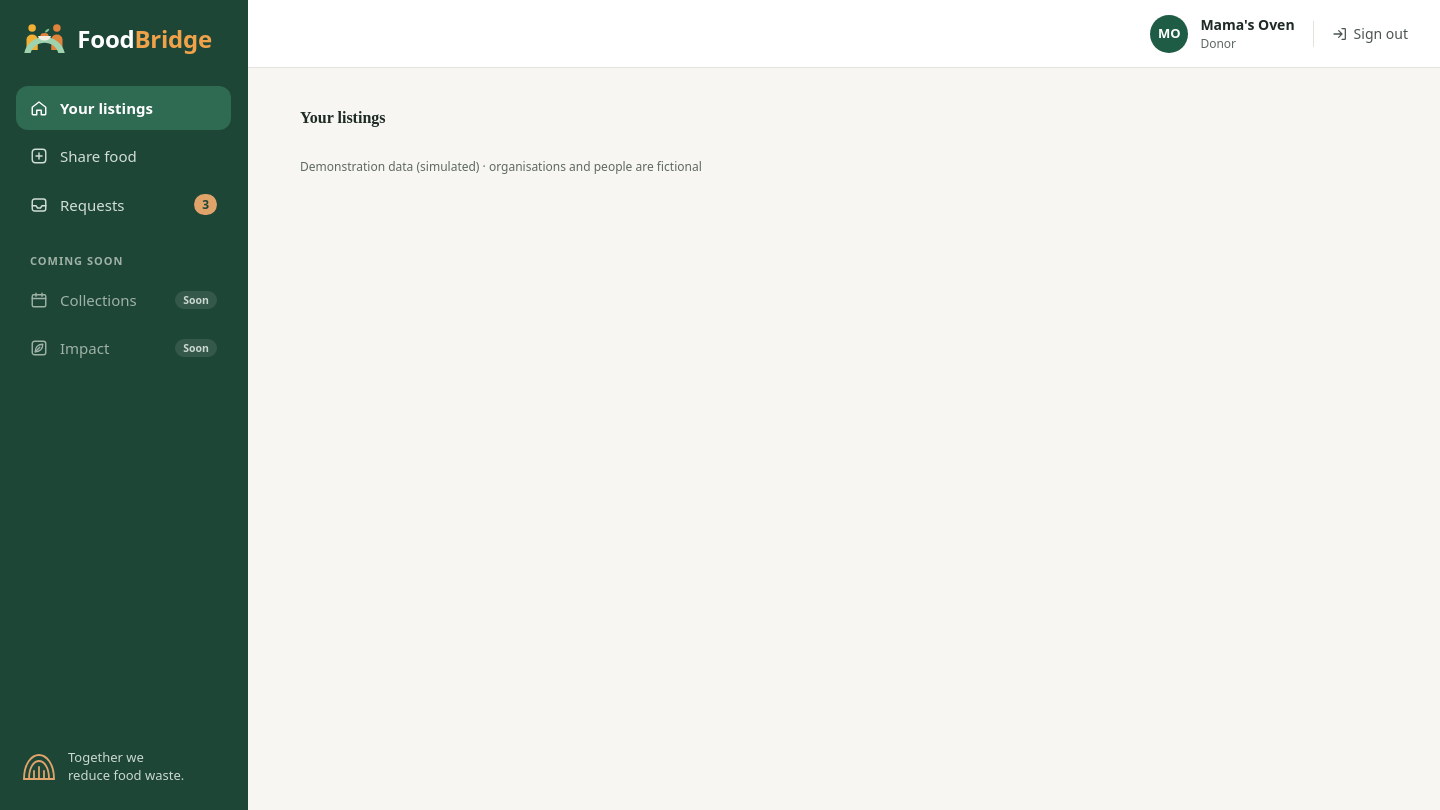
Test case: AppLayout sidebar › stays dark green when navigating between sidebar links
What coordinates should you click on to do the following:
click the link "Share food"
I would click on:
 (83, 156)
Its box is [30,146,137,166].
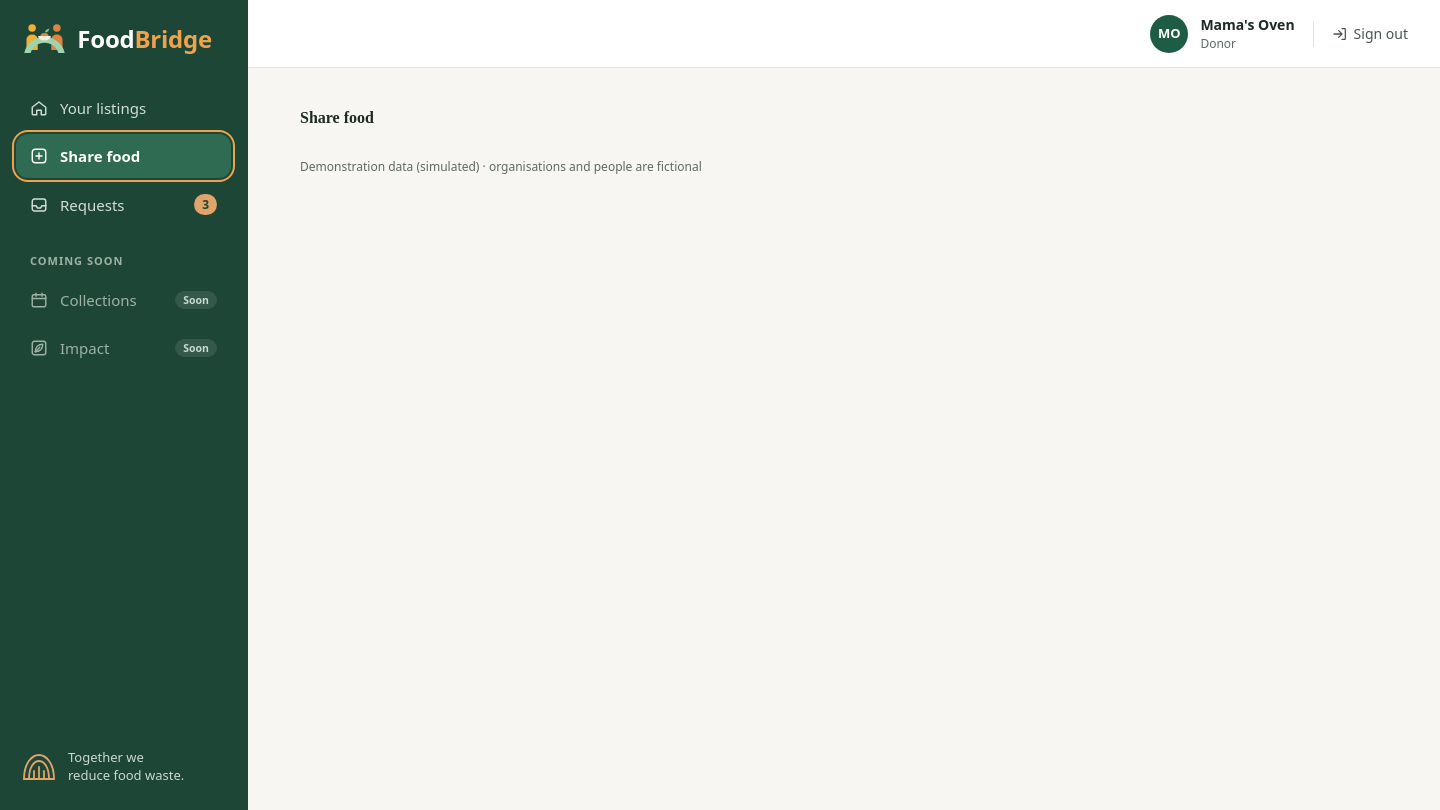
Check: the heading "Share food" is shown, box [300,109,374,126]
What coordinates should you click on to do the following:
click the link "Requests 3"
I would click on:
 (124, 204)
Its box is [30,194,217,215].
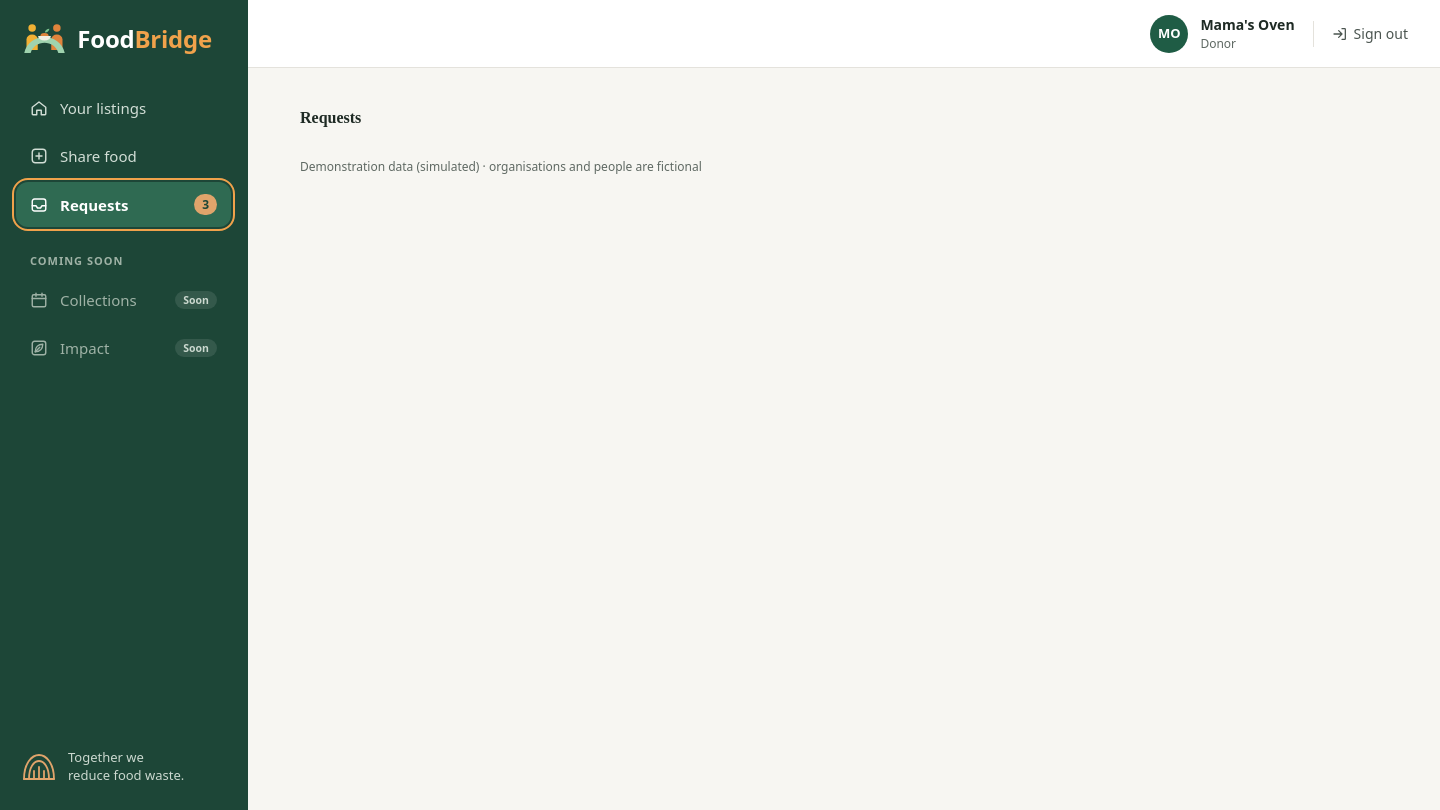
Check: the heading "Requests" is shown, box [300,109,361,126]
